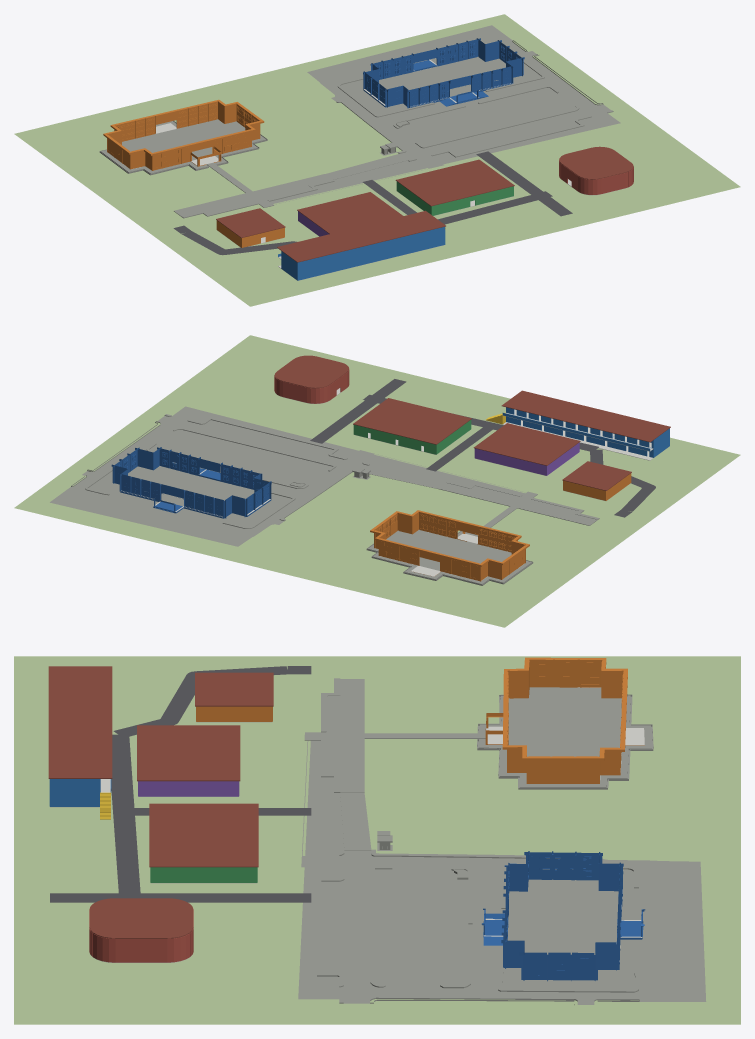
File: SiteplanGabungan.obj
The picture shows the model from 3 angles, top to bottom: view 1: azimuth 30°, elevation 25°; view 2: azimuth 150°, elevation 25°; view 3: azimuth 270°, elevation 25°; orthographic projection. The views are drawn at different scales.
Parts seen in each view (by area): view 1: Tanah, Tapak_SiteplanLama_Jalan_Lama, GedungTI_Dinding_TI, GedungPerpustakaan_Dinding_Perpus, GedungC_Atap, GKT4_Atap, Jalan, BAAK_Atap, Mesin_Atap, GedungC_L1_Dinding, GedungC_L2_Dinding, GKT4_Dinding (+4 smaller); view 2: Tanah, Tapak_SiteplanLama_Jalan_Lama, GedungTI_Dinding_TI, GedungPerpustakaan_Dinding_Perpus, GedungC_Atap, GKT4_Atap, BAAK_Atap, Jalan, Mesin_Atap, GedungC_L2_Dinding, GKT4_Dinding, Mesin_Dinding (+7 smaller); view 3: Tanah, Tapak_SiteplanLama_Jalan_Lama, GedungTI_Dinding_TI, GedungPerpustakaan_Dinding_Perpus, GedungC_Atap, GKT4_Atap, Jalan, BAAK_Atap, Mesin_Atap, Bahasa_Atap, Mesin_Dinding, GKT4_Dinding (+6 smaller).
Boxes of the visible parts, x1=… form: Tanah: x1=14, y1=14, x2=740, y2=306; Tapak_SiteplanLama_Jalan_Lama: x1=99, y1=25, x2=620, y2=218; GedungTI_Dinding_TI: x1=363, y1=38, x2=524, y2=108; GedungPerpustakaan_Dinding_Perpus: x1=103, y1=99, x2=264, y2=170; GedungC_Atap: x1=277, y1=210, x2=445, y2=262; GKT4_Atap: x1=395, y1=159, x2=514, y2=206; Jalan: x1=181, y1=173, x2=572, y2=255; BAAK_Atap: x1=297, y1=192, x2=403, y2=233; Mesin_Atap: x1=559, y1=146, x2=633, y2=179; GedungC_L1_Dinding: x1=281, y1=235, x2=445, y2=280; GedungC_L2_Dinding: x1=278, y1=227, x2=445, y2=271; GKT4_Dinding: x1=396, y1=181, x2=513, y2=215; Tanah: x1=14, y1=335, x2=740, y2=627; Tapak_SiteplanLama_Jalan_Lama: x1=50, y1=406, x2=599, y2=585; GedungTI_Dinding_TI: x1=111, y1=447, x2=271, y2=518; GedungPerpustakaan_Dinding_Perpus: x1=370, y1=510, x2=529, y2=581; GedungC_Atap: x1=501, y1=390, x2=670, y2=442; GKT4_Atap: x1=353, y1=398, x2=471, y2=444; BAAK_Atap: x1=473, y1=423, x2=580, y2=465; Jalan: x1=339, y1=379, x2=655, y2=511; Mesin_Atap: x1=274, y1=355, x2=348, y2=388; GedungC_L2_Dinding: x1=502, y1=407, x2=669, y2=450; GKT4_Dinding: x1=353, y1=420, x2=471, y2=454; Mesin_Dinding: x1=274, y1=367, x2=349, y2=403; Tanah: x1=14, y1=656, x2=740, y2=1024; Tapak_SiteplanLama_Jalan_Lama: x1=298, y1=678, x2=706, y2=1004; GedungTI_Dinding_TI: x1=481, y1=851, x2=645, y2=981; GedungPerpustakaan_Dinding_Perpus: x1=485, y1=657, x2=644, y2=783; GedungC_Atap: x1=48, y1=666, x2=112, y2=778; GKT4_Atap: x1=149, y1=803, x2=258, y2=867; Jalan: x1=50, y1=666, x2=288, y2=902; BAAK_Atap: x1=137, y1=725, x2=240, y2=781; Mesin_Atap: x1=89, y1=898, x2=193, y2=938; Bahasa_Atap: x1=195, y1=672, x2=273, y2=706; Mesin_Dinding: x1=89, y1=907, x2=193, y2=962; GKT4_Dinding: x1=150, y1=867, x2=257, y2=882.
Bounding box in the file's own units: 200 × 8.6 × 167.
